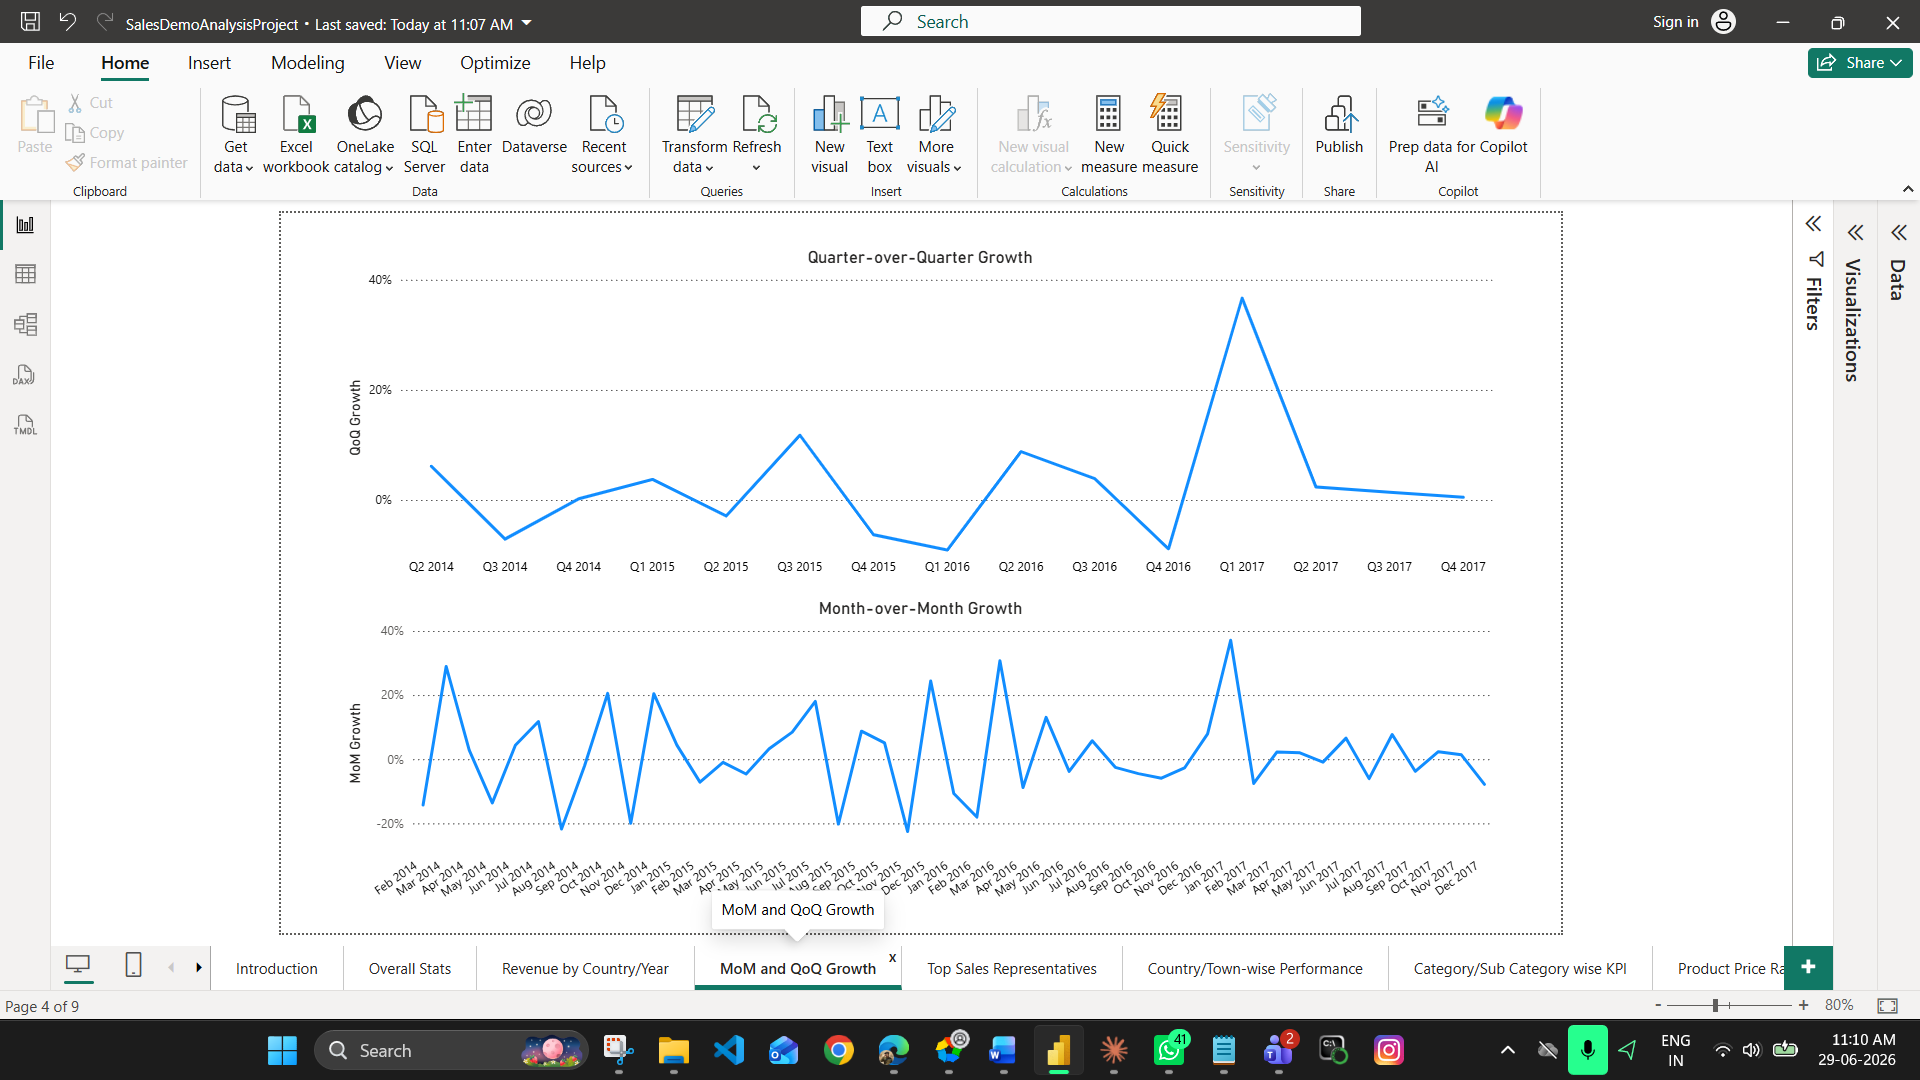

This screenshot's page, from the dashboard's own definition file:
{"tool":"powerbi","page":{"name":"MoM and QoQ Growth","canvas":[1280,720],"ordinal":3},"visuals":[{"type":"lineChart","title":"Month-over-Month Growth","fields":{"Category":["CalendarMaster.Month-Year"],"Y":["FactSales.MoM Growth"]},"box":[61.7,385,1156.7,321.7],"z":0},{"type":"lineChart","title":"Quarter-over-Quarter Growth","fields":{"Category":["CalendarMaster.Quarter-Year"],"Y":["FactSales.QoQ Growth"]},"box":[61.4,34.3,1155.7,338.6],"z":1000}]}

Visuals, with their boxes on the page's 1280x720 design canvas (x1, y1, x2, y2). These are canvas units, not pixel positions in the 1920x1080 screenshot, which may show the page scaled, cropped or inside an application window:
"Month-over-Month Growth" lineChart: 62:385:1218:707
"Quarter-over-Quarter Growth" lineChart: 61:34:1217:373
